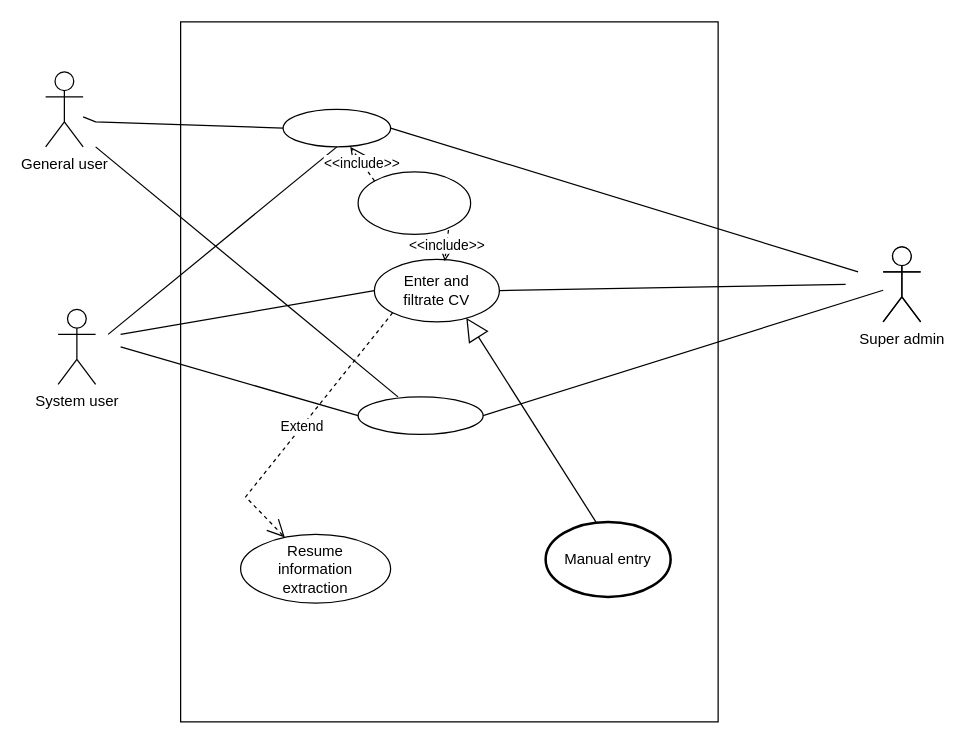
Some shapes in this 966 by 744 pixel diagram are drawn without their labels. Here are the shapes that lost their labels. From the top down, the centre of each, then its label:
(336,127): Query information
(414,202): Modify data
(420,415): User management
